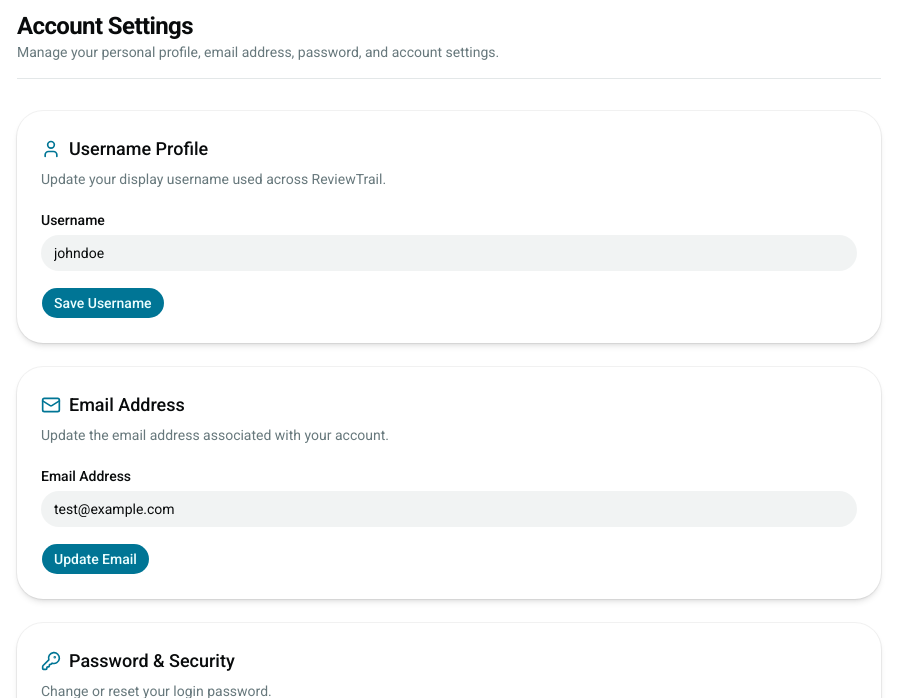
Scenario: SettingsPage Component › Email Form › handles successful email update request
The width and height of the screenshot is (899, 698).
Replace the text in the field labelled "Email Address" with "newemail@example.com". click: (449,509)
box: [41,491,857,527]
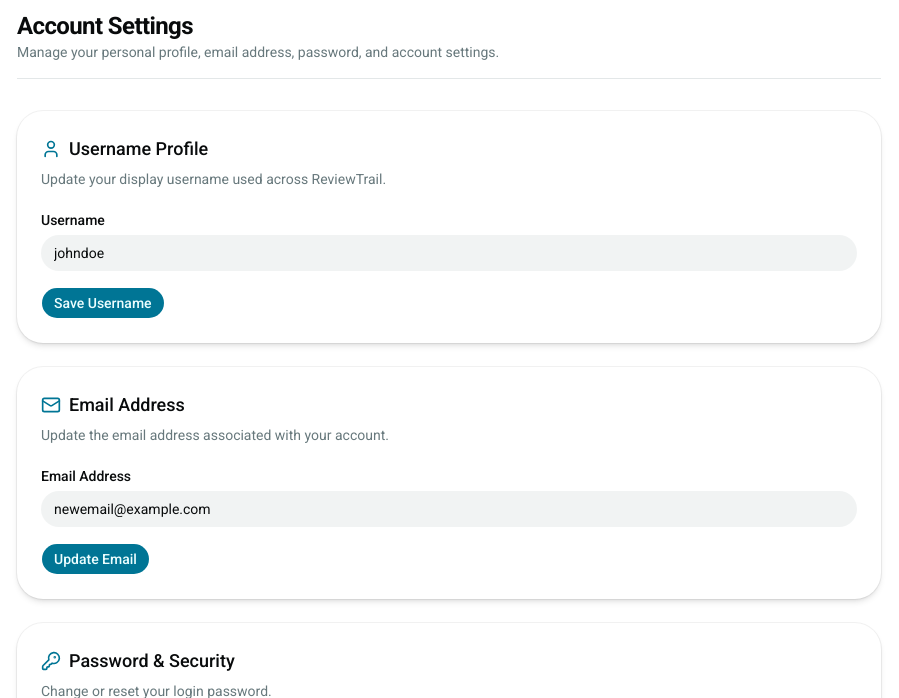
Click the button "Update Email". click: (95,559)
box: [41,543,150,575]
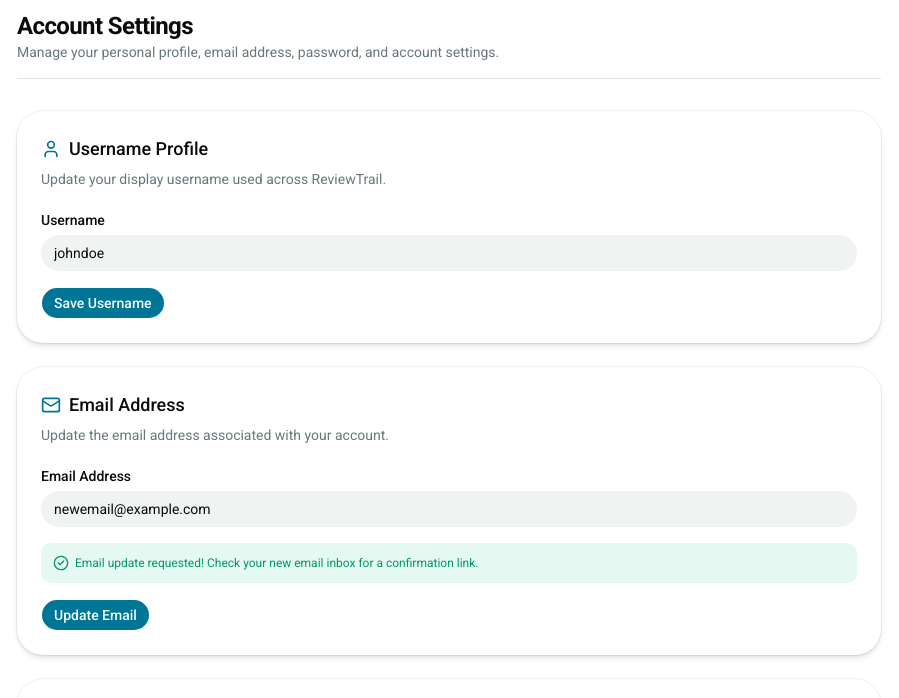
expect the text "Email update requested! Check your new email inbox" is shown: met, box [75,556,478,570]
